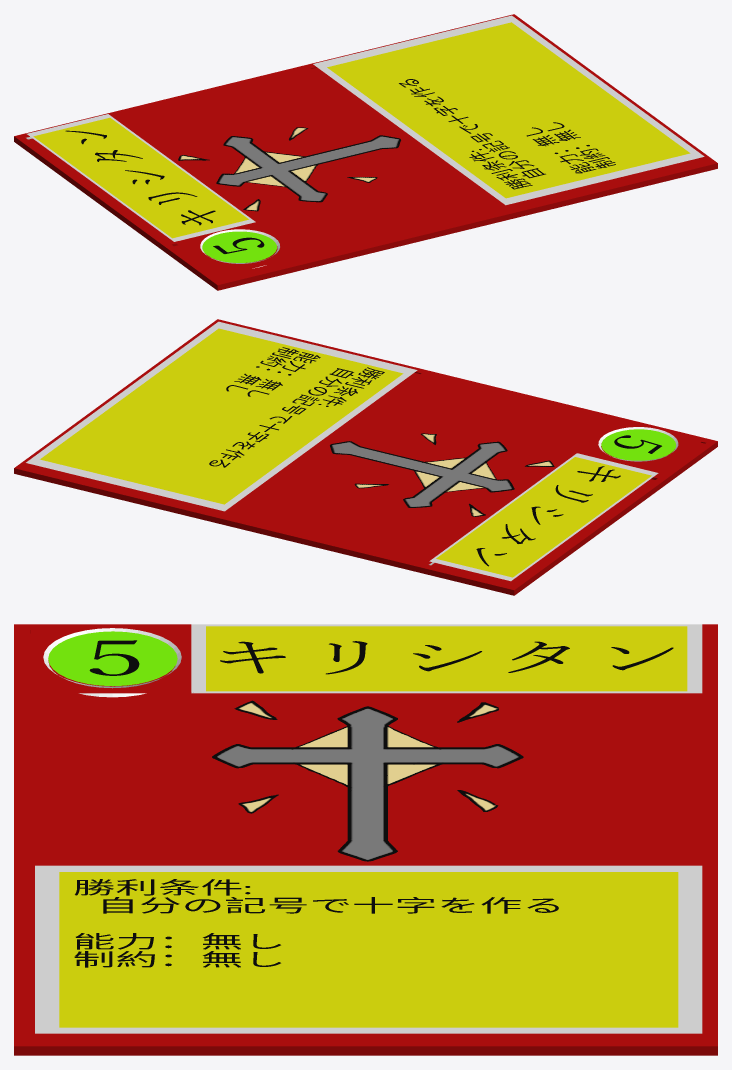
The model's file is キリシタン赤.fbx.
The picture shows the model from 3 angles, top to bottom: view 1: azimuth 30°, elevation 25°; view 2: azimuth 150°, elevation 25°; view 3: azimuth 270°, elevation 25°; orthographic projection. The views are drawn at different scales.
Visible parts, largest first — view 1: カード本体.001, 説明欄, 名前欄, 平面.001, 説明文, 円, 平面, 名前; view 2: カード本体.001, 説明欄, 名前欄, 平面.001, 説明文, 円, 平面, 名前; view 3: カード本体.001, 説明欄, 名前欄, 平面.001, 説明文, 平面, 円, 名前, コスト蘭.
Boxes of the visible parts, box(x1,y1,x2,y2) form: カード本体.001: box(14, 14, 717, 290); 説明欄: box(313, 15, 704, 205); 名前欄: box(27, 114, 255, 241); 平面.001: box(178, 127, 400, 211); 説明文: box(399, 79, 615, 189); 円: box(202, 231, 276, 262); 平面: box(174, 222, 302, 275); 名前: box(65, 130, 215, 225); カード本体.001: box(14, 319, 717, 595); 説明欄: box(26, 321, 417, 511); 名前欄: box(429, 453, 658, 581); 平面.001: box(330, 433, 554, 516); 説明文: box(209, 347, 384, 467); 円: box(601, 429, 675, 460); 平面: box(577, 419, 704, 472); 名前: box(476, 466, 620, 566); カード本体.001: box(14, 624, 717, 1055); 説明欄: box(35, 865, 702, 1033); 名前欄: box(191, 624, 702, 693); 平面.001: box(212, 700, 523, 861); 説明文: box(74, 879, 558, 967); 平面: box(30, 624, 191, 693); 円: box(48, 631, 177, 686); 名前: box(220, 641, 673, 674); コスト蘭: box(43, 628, 181, 697).
Size of the model in its own units: 281 by 6.07 by 198.
